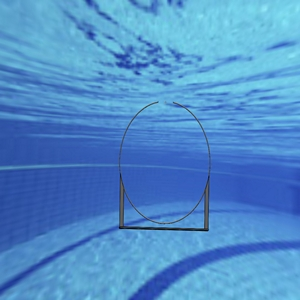circle: (118, 99, 213, 231)
